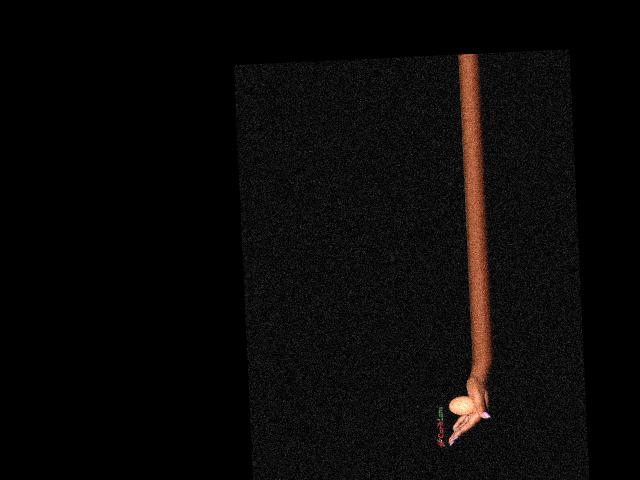egg: (448, 395, 475, 416)
